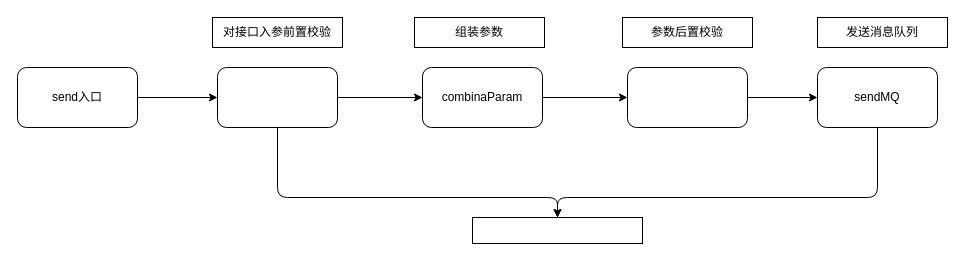
Some shapes in this 965 by 261 pixel diagram are drawn without their labels. Each missing label, with the centre of its shape:
FirstParamCheck: pixel 277 97
LastParamCheck: pixel 687 97
责任链模式: pixel 557 230
